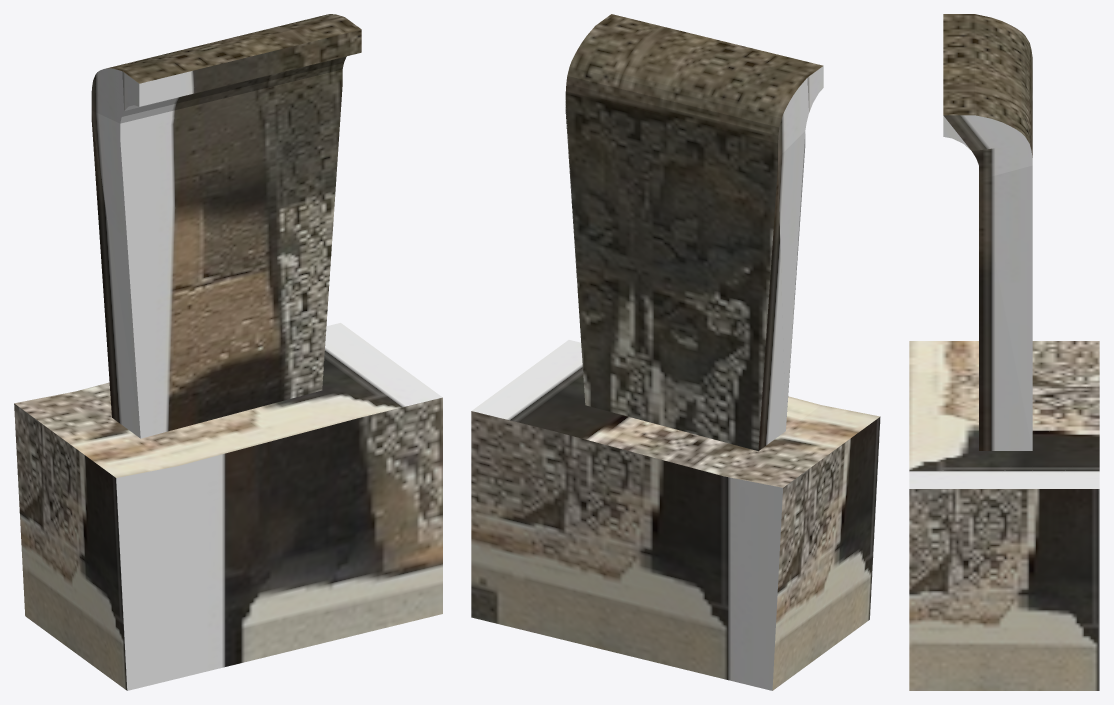
File: Stone02.fbx
The picture shows the model from 3 angles, left to right: view 1: azimuth 30°, elevation 25°; view 2: azimuth 150°, elevation 25°; view 3: azimuth 270°, elevation 25°; orthographic projection. The views are drawn at different scales.
Visible parts, largest first — view 1: ShapeIndexedFaceSet.002; view 2: ShapeIndexedFaceSet.002; view 3: ShapeIndexedFaceSet.002.
Part boxes in pixels (x1,y1,x2,y2): ShapeIndexedFaceSet.002: (14,14,442,690); ShapeIndexedFaceSet.002: (471,14,880,690); ShapeIndexedFaceSet.002: (909,14,1099,690).
Size of the model in its own units: 59.56 by 102 by 32.24.
